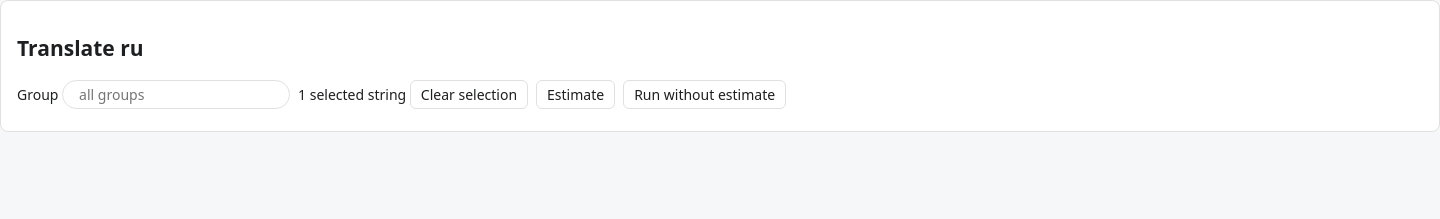
Test case: JobsView › uses the preset selection from a glossary fix
This screenshot has width=1440, height=219.
Expected: the text "1 selected string Clear selection" is shown, [298,80,528,109]
Click the button "Estimate" at (576, 94), box [536,80,615,109]
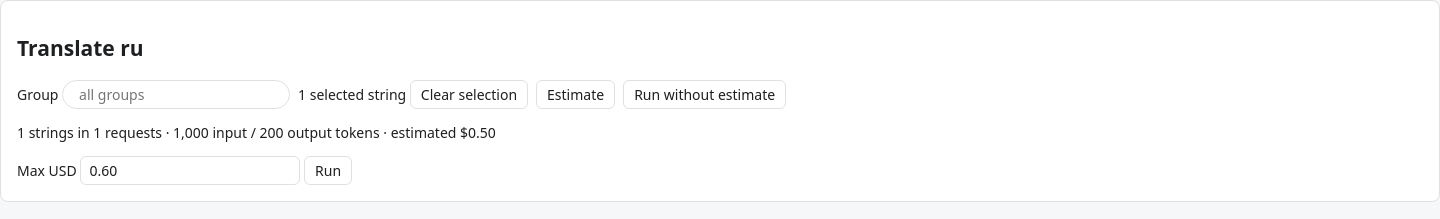
Now the text "1 strings in 1 requests" is shown, box [17,123,496,142]
